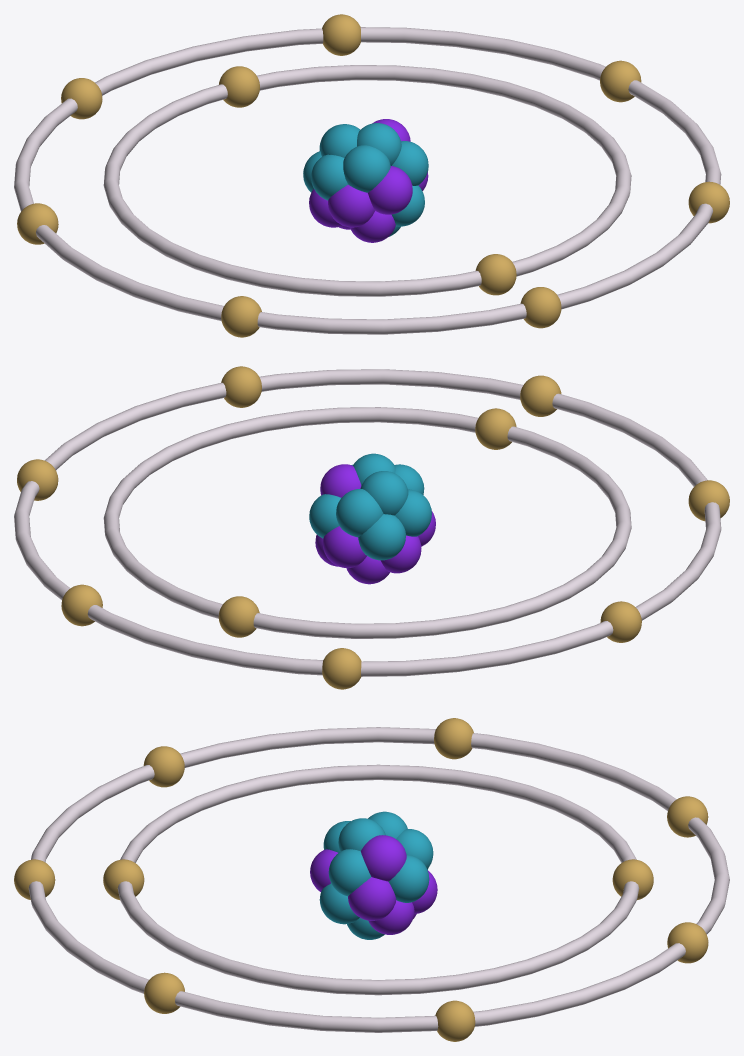
Rendered from fluor.glb.
3 views of the same model, one above another, from view 1: azimuth 30°, elevation 25°; view 2: azimuth 150°, elevation 25°; view 3: azimuth 270°, elevation 25° (orthographic).
Parts seen in each view (by area): view 1: Orbita_2, Orbita_1, Nucleo_Completo, Eletron_C3_4, Eletron_C3_7, Eletron_C2_1, Eletron_1, Eletron_2, Eletron_C3_3, Eletron_C3_5, Eletron_C3_6, Eletron_C2_2; view 2: Orbita_2, Orbita_1, Nucleo_Completo, Eletron_C3_5, Eletron_C2_2, Eletron_2, Eletron_1, Eletron_C2_1, Eletron_C3_6, Eletron_C3_4, Eletron_C3_3, Eletron_C3_7; view 3: Orbita_2, Orbita_1, Nucleo_Completo, Eletron_C3_6, Eletron_C3_3, Eletron_C2_2, Eletron_C3_7, Eletron_C3_4, Eletron_C3_5, Eletron_1, Eletron_2, Eletron_C2_1.
Boxes of the visible parts, bbox=[...] form: Orbita_2: bbox=[14, 27, 721, 334]; Orbita_1: bbox=[103, 65, 631, 296]; Nucleo_Completo: bbox=[303, 119, 428, 242]; Eletron_C3_4: bbox=[322, 14, 360, 55]; Eletron_C3_7: bbox=[221, 296, 261, 337]; Eletron_C2_1: bbox=[520, 287, 561, 328]; Eletron_1: bbox=[475, 254, 516, 295]; Eletron_2: bbox=[219, 66, 259, 107]; Eletron_C3_3: bbox=[600, 60, 641, 102]; Eletron_C3_5: bbox=[61, 78, 102, 119]; Eletron_C3_6: bbox=[17, 203, 58, 244]; Eletron_C2_2: bbox=[688, 181, 729, 223]; Orbita_2: bbox=[14, 369, 721, 676]; Orbita_1: bbox=[103, 407, 631, 638]; Nucleo_Completo: bbox=[309, 453, 435, 584]; Eletron_C3_5: bbox=[322, 648, 361, 689]; Eletron_C2_2: bbox=[221, 366, 261, 407]; Eletron_2: bbox=[218, 596, 259, 637]; Eletron_1: bbox=[475, 408, 516, 449]; Eletron_C2_1: bbox=[520, 375, 561, 416]; Eletron_C3_6: bbox=[600, 601, 641, 642]; Eletron_C3_4: bbox=[61, 584, 102, 626]; Eletron_C3_3: bbox=[17, 459, 58, 500]; Eletron_C3_7: bbox=[688, 480, 729, 521]; Orbita_2: bbox=[28, 727, 729, 1032]; Orbita_1: bbox=[117, 764, 639, 995]; Nucleo_Completo: bbox=[310, 811, 437, 939]; Eletron_C3_6: bbox=[434, 718, 473, 759]; Eletron_C3_3: bbox=[435, 1000, 475, 1041]; Eletron_C2_2: bbox=[144, 972, 184, 1013]; Eletron_C3_7: bbox=[143, 746, 184, 787]; Eletron_C3_4: bbox=[667, 922, 708, 963]; Eletron_C3_5: bbox=[667, 796, 708, 837]; Eletron_1: bbox=[103, 859, 144, 899]; Eletron_2: bbox=[612, 859, 653, 899]; Eletron_C2_1: bbox=[14, 859, 55, 899].
Bounding box in the file's own units: 2.79 × 0.4952 × 2.81.
